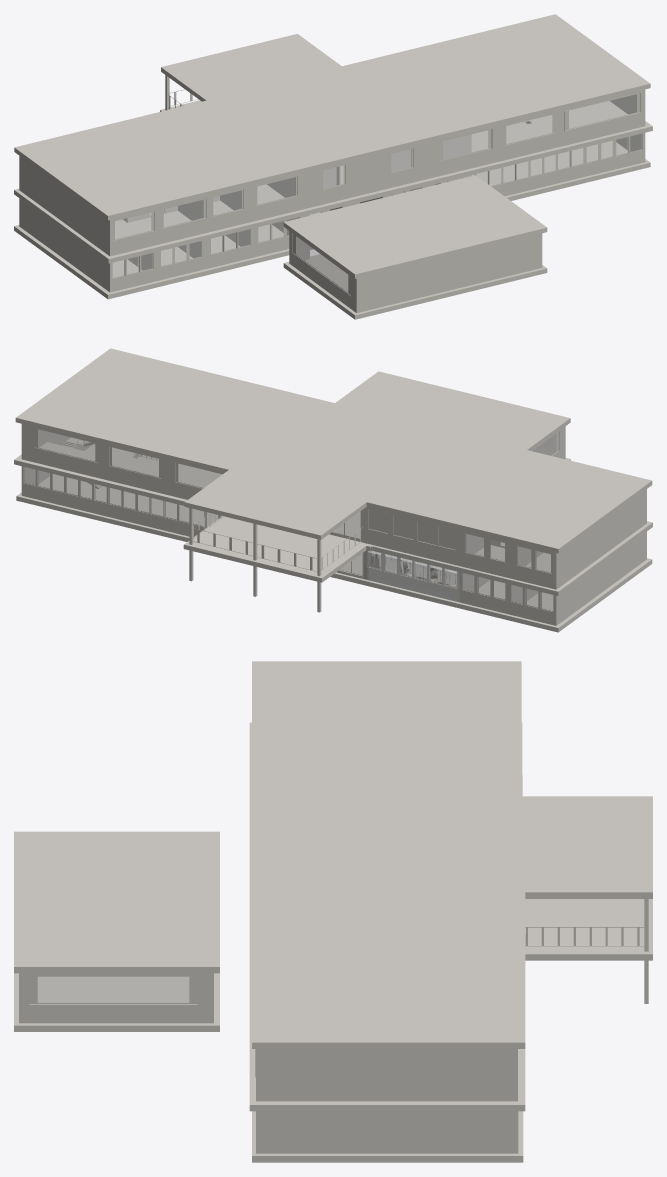
Rendered from smart_ideas_walk.glb.
The picture shows the model from 3 angles, top to bottom: view 1: azimuth 30°, elevation 25°; view 2: azimuth 150°, elevation 25°; view 3: azimuth 270°, elevation 25°; orthographic projection. The views are drawn at different scales.
Visible parts, largest first — view 1: BEYOND_L2_SLAB, BEYOND_L1_WALL, BEYOND_L0_WALL, BEYOND_L0_SLAB, BEYOND_L1_SLAB, BEYOND_L1_GLASS, BEYOND_L0_GLASS, UPPER_in_zone, BEYOND_L1_FRAME, BEYOND_L0_FRAME, BEYOND_L1_OTHER, BEYOND_L0_OTHER; view 2: BEYOND_L2_SLAB, BEYOND_L1_SLAB, BEYOND_L1_WALL, BEYOND_L0_WALL, UPPER_in_zone, BEYOND_L0_SLAB, BEYOND_L1_GLASS, BEYOND_L0_GLASS, BAKE_wall_north, BEYOND_L0_FRAME, BEYOND_L1_FRAME, GLASS_zone (+6 smaller); view 3: BEYOND_L2_SLAB, BEYOND_L0_WALL, BEYOND_L1_WALL, BEYOND_L1_SLAB, BEYOND_L0_SLAB, UPPER_in_zone, BEYOND_L0_GLASS, BEYOND_L0_FRAME.
Part boxes in pixels (bbox=[...]): BEYOND_L2_SLAB: bbox=[14, 14, 650, 278]; BEYOND_L1_WALL: bbox=[19, 89, 645, 256]; BEYOND_L0_WALL: bbox=[19, 133, 645, 313]; BEYOND_L0_SLAB: bbox=[14, 122, 650, 319]; BEYOND_L1_SLAB: bbox=[14, 100, 652, 263]; BEYOND_L1_GLASS: bbox=[115, 94, 636, 238]; BEYOND_L0_GLASS: bbox=[113, 134, 641, 291]; UPPER_in_zone: bbox=[116, 100, 248, 150]; BEYOND_L1_FRAME: bbox=[113, 93, 640, 240]; BEYOND_L0_FRAME: bbox=[112, 134, 642, 295]; BEYOND_L1_OTHER: bbox=[112, 89, 641, 240]; BEYOND_L0_OTHER: bbox=[124, 133, 642, 295]; BEYOND_L2_SLAB: bbox=[15, 348, 652, 553]; BEYOND_L1_SLAB: bbox=[14, 442, 652, 596]; BEYOND_L1_WALL: bbox=[21, 424, 646, 589]; BEYOND_L0_WALL: bbox=[21, 426, 646, 625]; UPPER_in_zone: bbox=[364, 473, 495, 565]; BEYOND_L0_SLAB: bbox=[16, 444, 652, 632]; BEYOND_L1_GLASS: bbox=[38, 429, 550, 572]; BEYOND_L0_GLASS: bbox=[24, 434, 555, 610]; BAKE_wall_north: bbox=[364, 550, 459, 602]; BEYOND_L0_FRAME: bbox=[23, 431, 558, 611]; BEYOND_L1_FRAME: bbox=[34, 428, 551, 573]; GLASS_zone: bbox=[368, 551, 456, 587]; BEYOND_L2_SLAB: bbox=[14, 661, 652, 1048]; BEYOND_L0_WALL: bbox=[19, 973, 518, 1153]; BEYOND_L1_WALL: bbox=[256, 1049, 517, 1101]; BEYOND_L1_SLAB: bbox=[249, 722, 652, 1111]; BEYOND_L0_SLAB: bbox=[14, 775, 523, 1162]; UPPER_in_zone: bbox=[412, 732, 518, 799]; BEYOND_L0_GLASS: bbox=[38, 977, 188, 1002]; BEYOND_L0_FRAME: bbox=[29, 976, 197, 1003].
Size of the model in its own units: 38.22 by 5.6 by 27.
11 materials, 8 textured.
